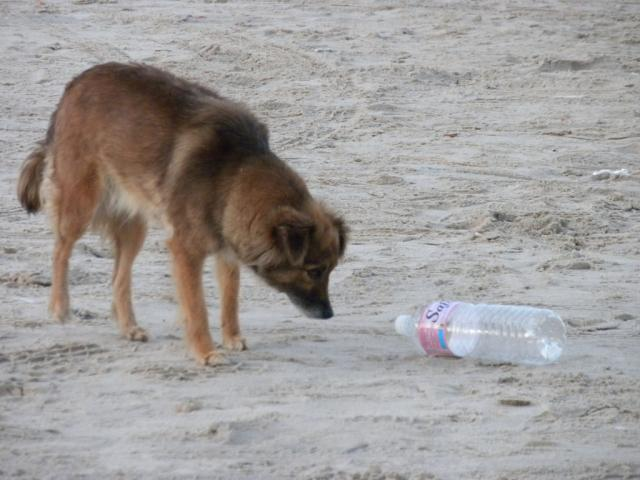Dog: (19, 59, 348, 368)
